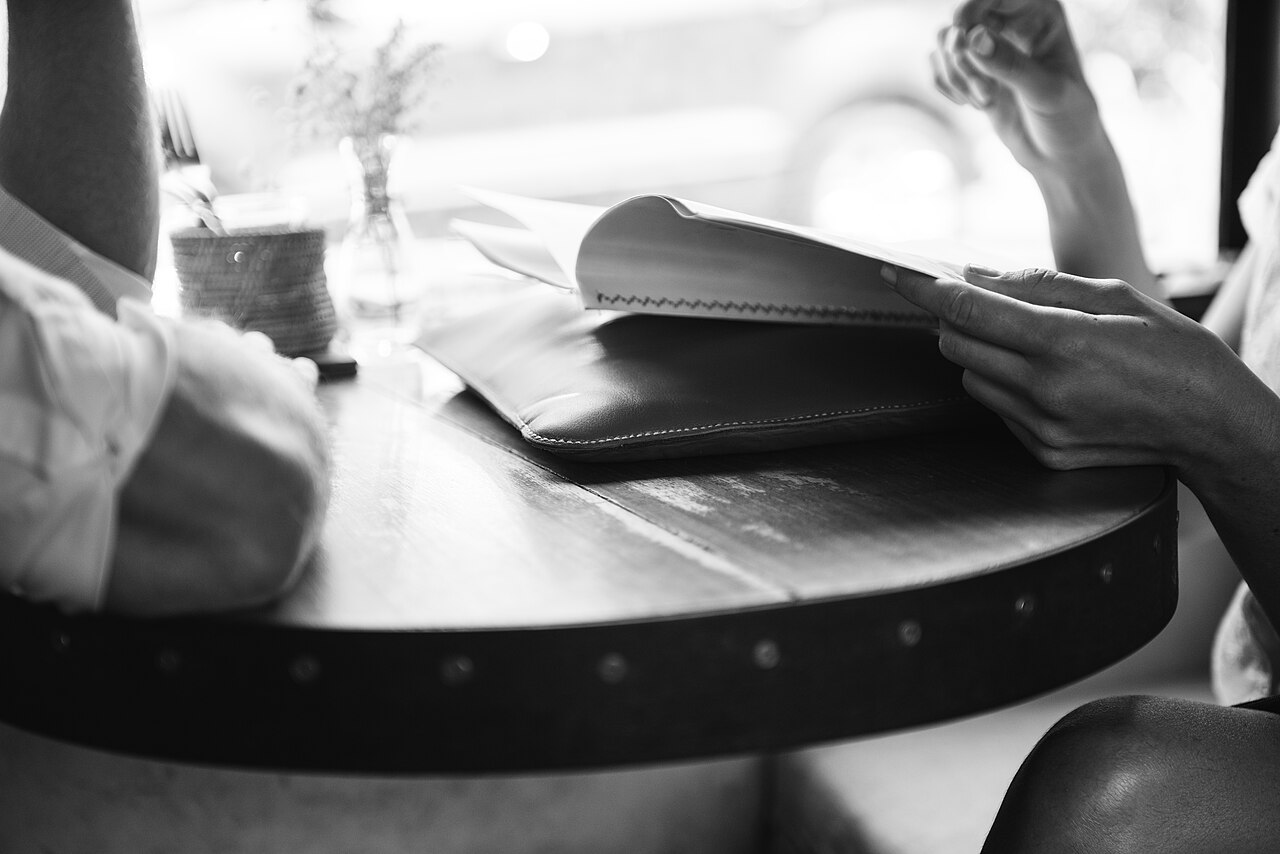occupied: (0, 180, 1200, 600)
